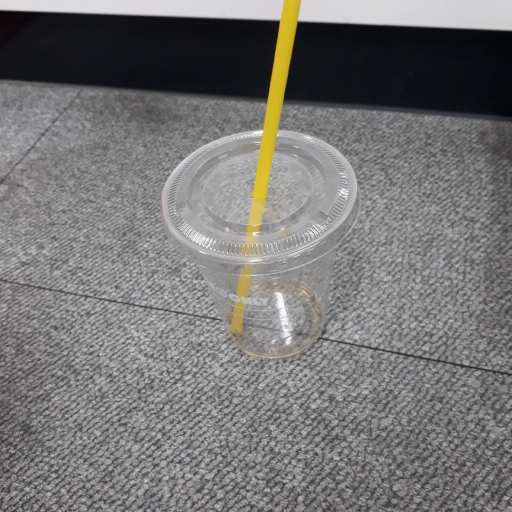Plastic_2: (156, 2, 362, 356)
